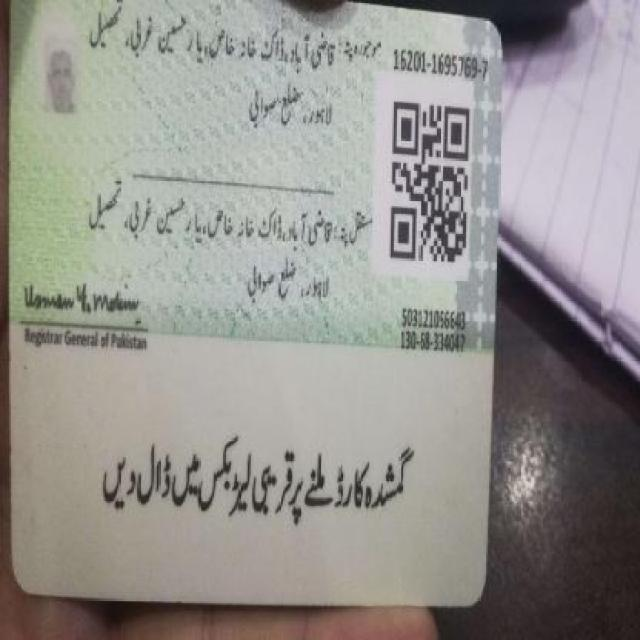Back: (8, 3, 502, 602)
